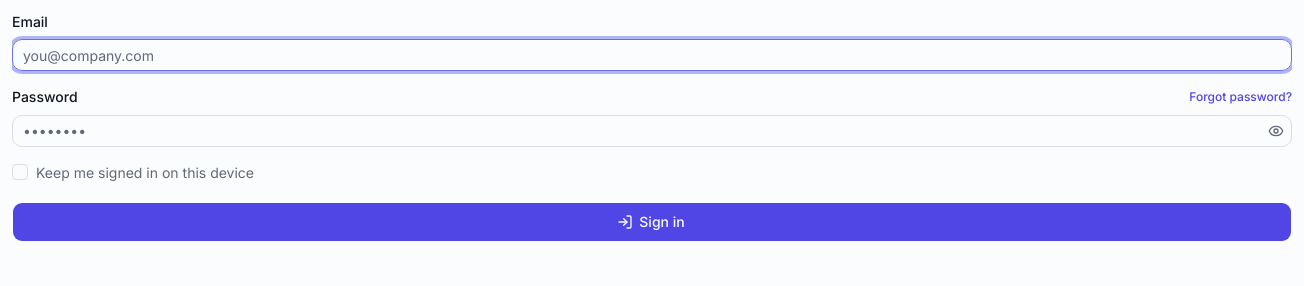
Test: <LoginForm> › requires a password
Step 1. Type "jane@example.com" into the field labelled "Email" → coordinates (652, 55), box [12,39,1292,71]
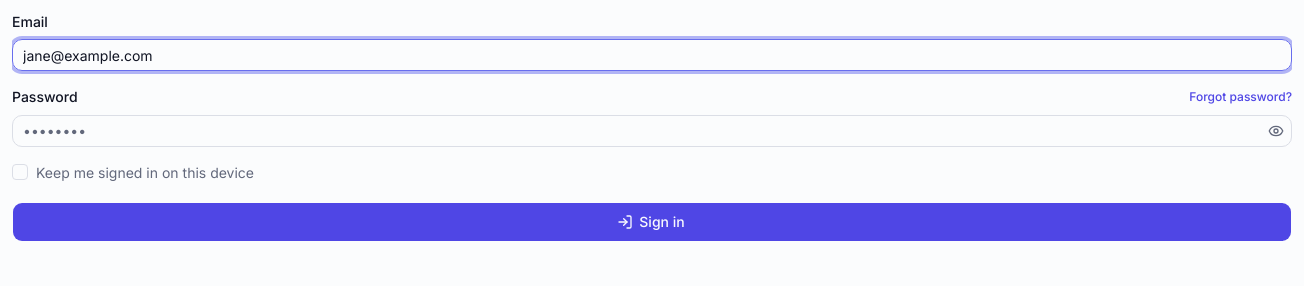
Step 2. Click the button "Sign in" → coordinates (652, 222), box [12,202,1292,242]
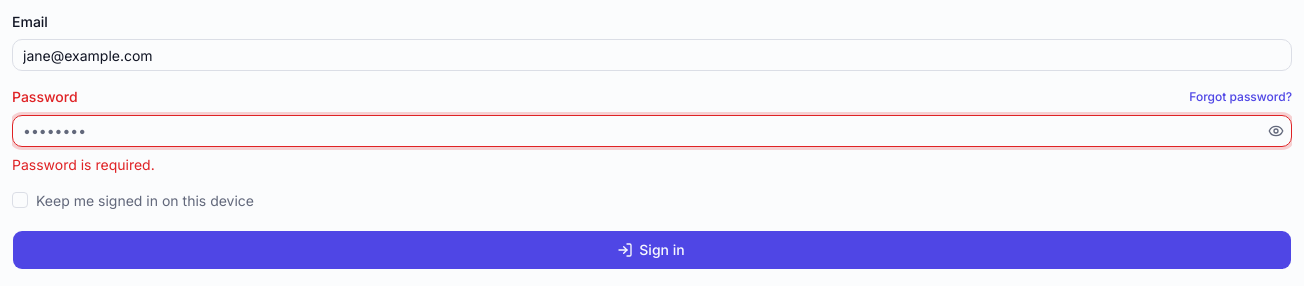
Expected: the text "Password is required." is shown, [12,156,155,172]
